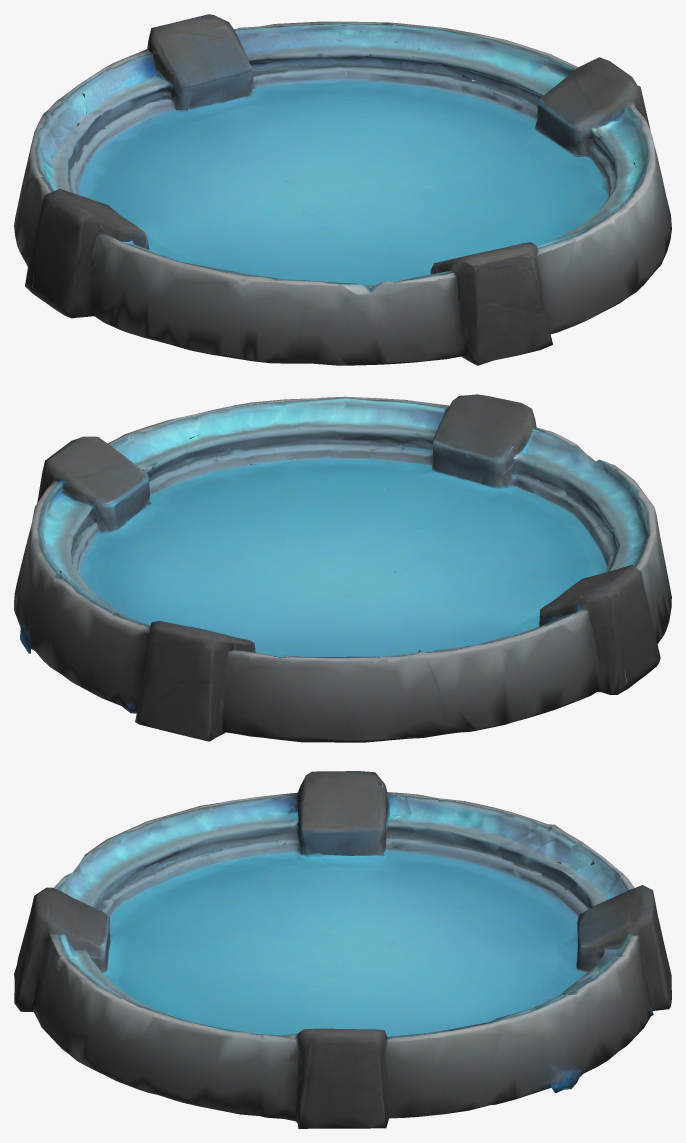
File: mana_pool_0810063423_texture.gltf
3 views of the same model, one above another, from view 1: azimuth 30°, elevation 25°; view 2: azimuth 150°, elevation 25°; view 3: azimuth 270°, elevation 25° (orthographic). The views are drawn at different scales.
Visible parts, largest first — view 1: mana_pool_0810063423_texture; view 2: mana_pool_0810063423_texture; view 3: mana_pool_0810063423_texture.
Boxes of the visible parts, x1,y1,x2,y2 form: mana_pool_0810063423_texture: [14, 14, 671, 365]; mana_pool_0810063423_texture: [14, 394, 671, 742]; mana_pool_0810063423_texture: [14, 771, 671, 1128].
Size of the model in its own units: 1.99 by 0.3757 by 2.
